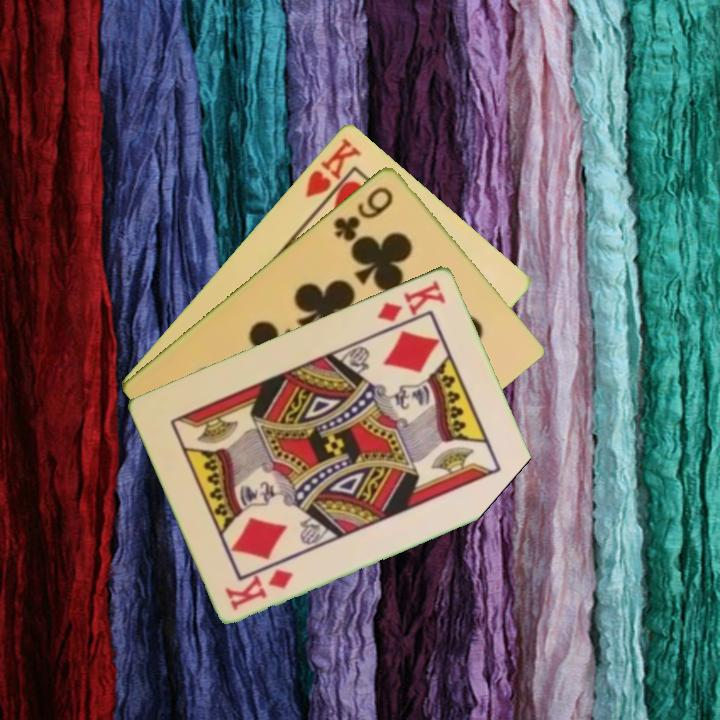9c: (329, 182, 397, 244)
Kd: (222, 564, 297, 613), (373, 276, 449, 324)
Kh: (301, 134, 365, 213)
